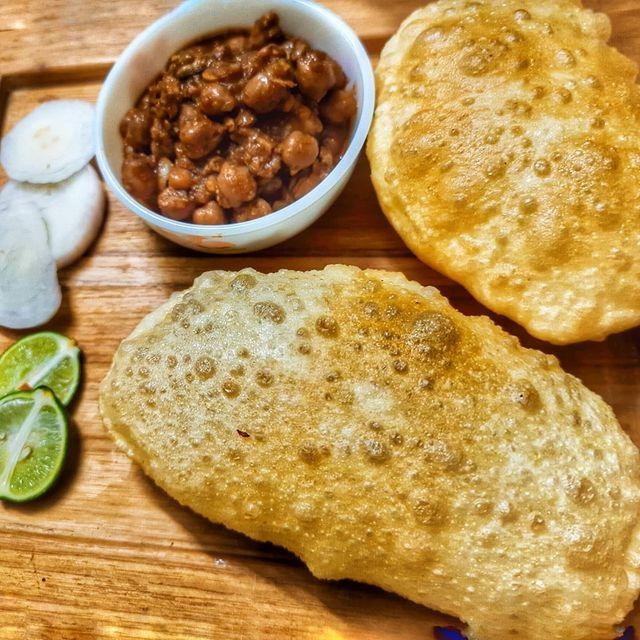Chole: (113, 29, 346, 222)
